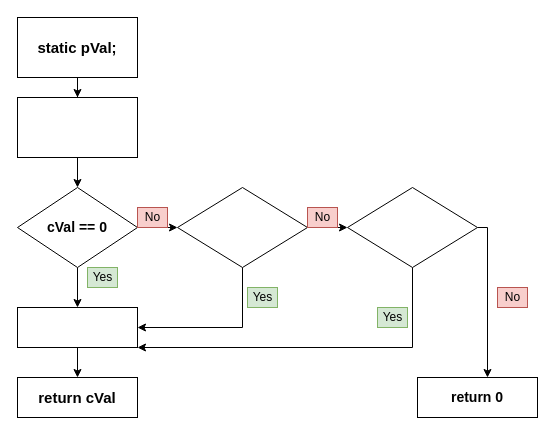
Image size: 555x435. Some labels were removed from this diagram. The shapes that lost their labels are listed below. From the top down, each one's centre as x and y in pixels, then its label:
At [77,127]: "cVal = key_code[i]".
At [242,227]: "pVal == 0".
At [412,227]: "cVal - pVal > 5".
At [77,327]: "pVal = cVal".
